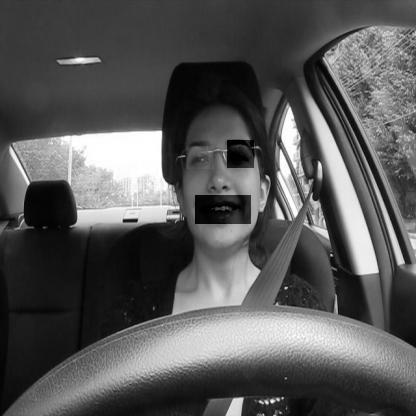seatbelt: (168, 73, 296, 416)
